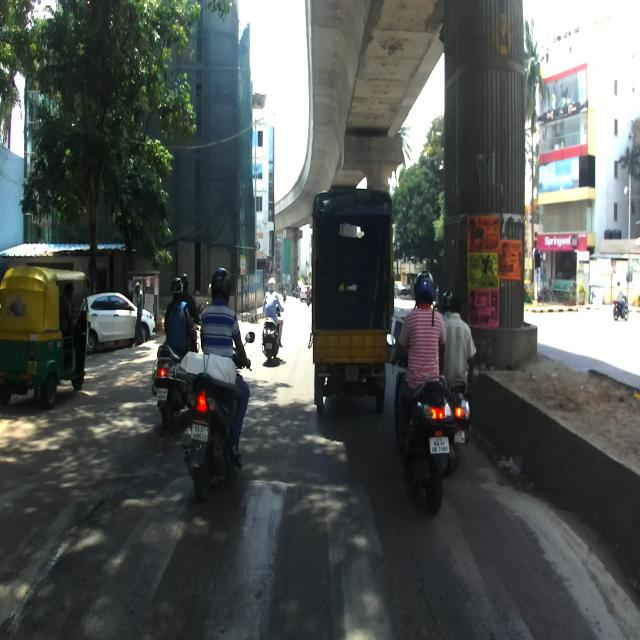auto ahead at: (0, 262, 91, 411)
motorcycle ahead at: (178, 366, 244, 497), (400, 376, 454, 506)
truck ahead at: (308, 188, 391, 426)
